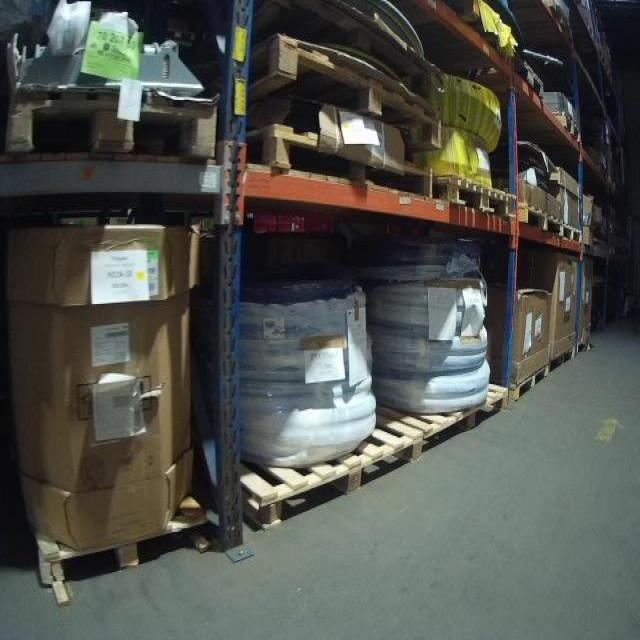pallet: (246, 122, 516, 219), (252, 35, 442, 152), (243, 418, 418, 532), (253, 0, 438, 101), (3, 84, 220, 159), (38, 501, 211, 588), (375, 372, 507, 460), (511, 50, 544, 99), (518, 202, 562, 236), (511, 365, 549, 400), (553, 111, 582, 145), (548, 346, 575, 375), (560, 220, 582, 244)
